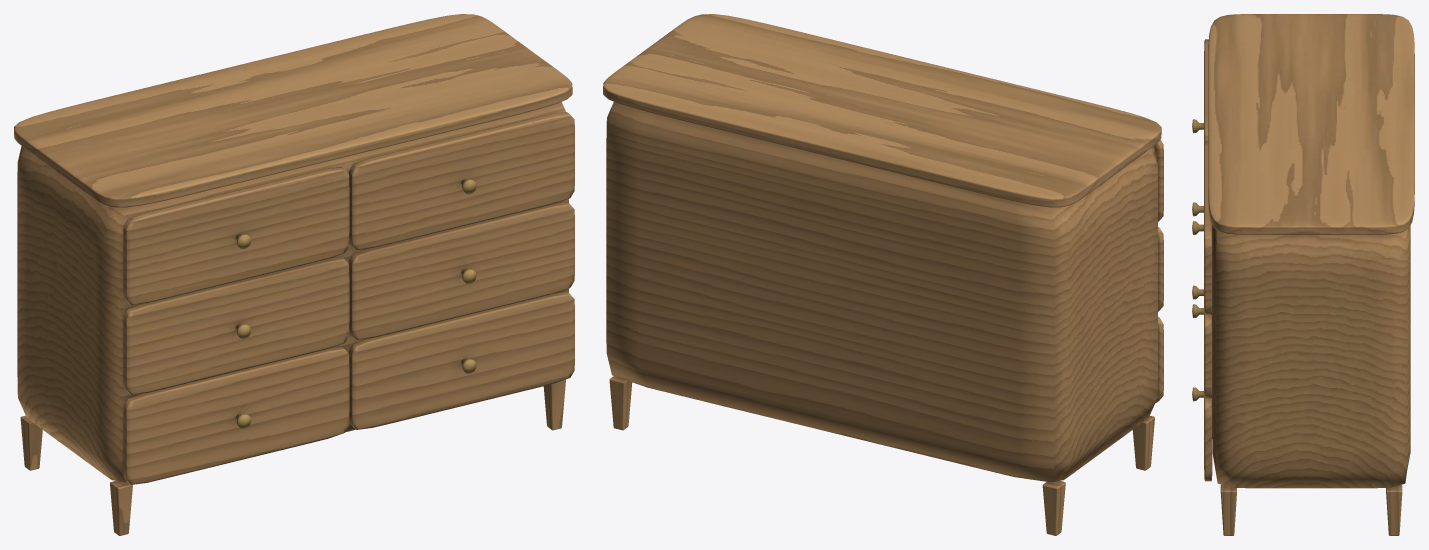
File: oak-six-drawer.glb
3 renders of one model, left to right at view 1: azimuth 30°, elevation 25°; view 2: azimuth 150°, elevation 25°; view 3: azimuth 270°, elevation 25°, orthographic. The views are drawn at different scales.
Parts seen in each view (by area): view 1: wood_h, wood_v, brass_handle; view 2: wood_h, wood_v; view 3: wood_h, wood_v, brass_handle.
Boxes of the visible parts, box(x1,y1,x2,y2) form: wood_h: box(14, 14, 574, 484); wood_v: box(20, 379, 565, 535); brass_handle: box(235, 179, 476, 428); wood_h: box(603, 14, 1163, 482); wood_v: box(609, 376, 1154, 535); wood_h: box(1204, 14, 1414, 488); wood_v: box(1220, 485, 1402, 535); brass_handle: box(1192, 119, 1203, 401).
Bounding box in the file's own units: 1.22 × 0.848 × 0.539.
3 materials, 3 textured.
